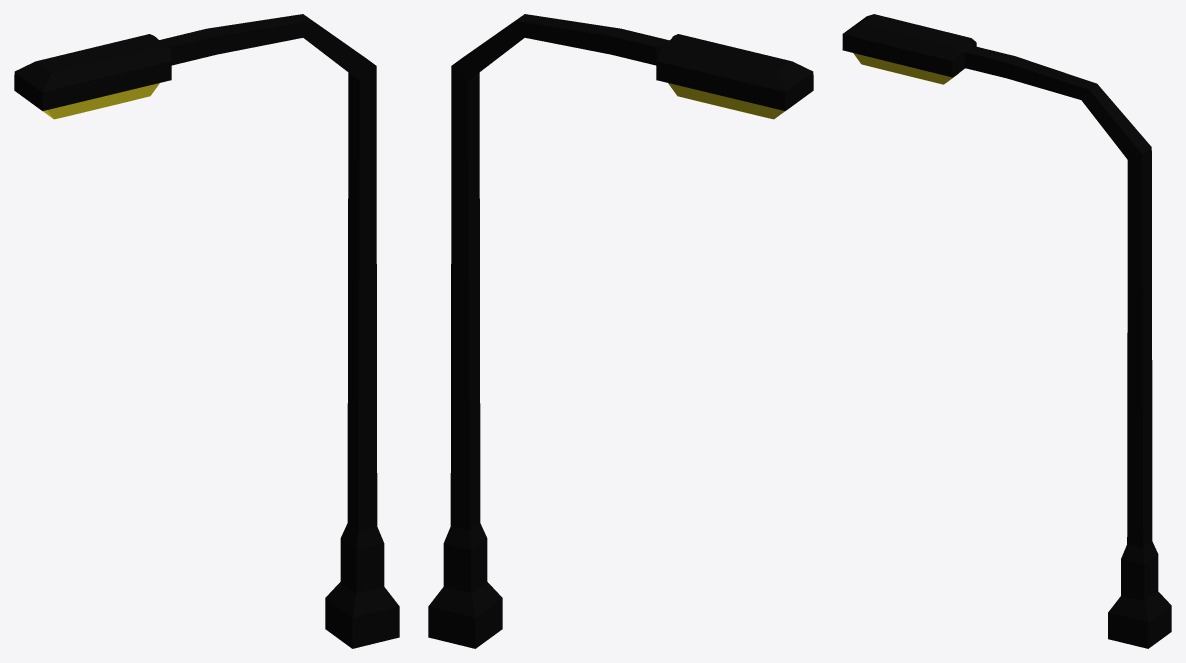
The model's file is lamppost.fbx.
3 views of the same model, side by side, from view 1: azimuth 30°, elevation 25°; view 2: azimuth 150°, elevation 25°; view 3: azimuth 330°, elevation 25° (orthographic). The views are drawn at different scales.
Parts seen in each view (by area): view 1: lamppost.001; view 2: lamppost.001; view 3: lamppost.001.
Boxes of the visible parts, <box> form: lamppost.001: <box>14,14,399,648</box>; lamppost.001: <box>428,14,813,648</box>; lamppost.001: <box>842,14,1171,648</box>.
Bounding box in the file's own units: 78.69 × 135 × 10.69.
